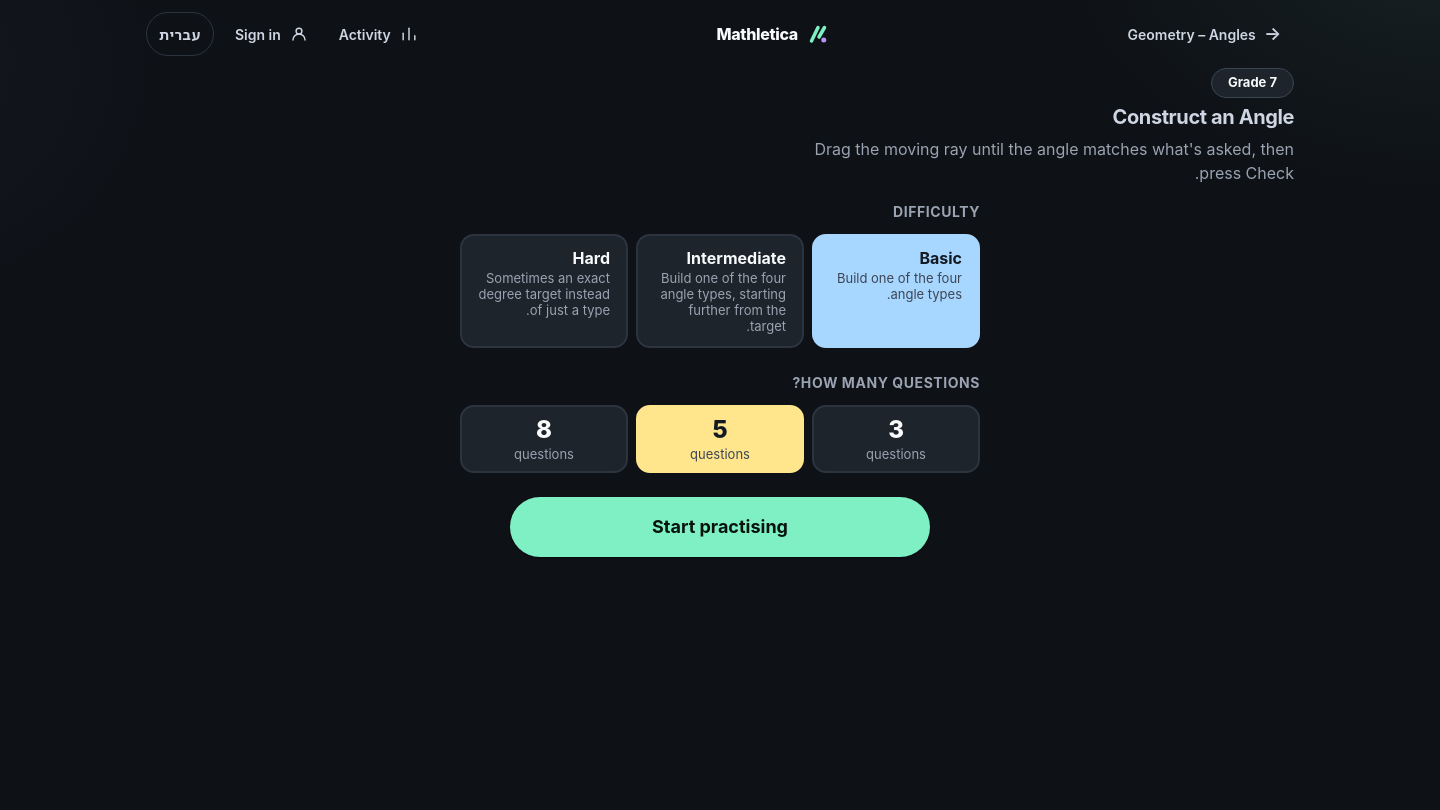
Test case: Construct an Angle training activity (drag lab) › renders a draggable handle, a fixed ray, a moving ray and a live degree readout
Click the button with test id "tr-start".
click(720, 526)  # box [510,496,930,556]
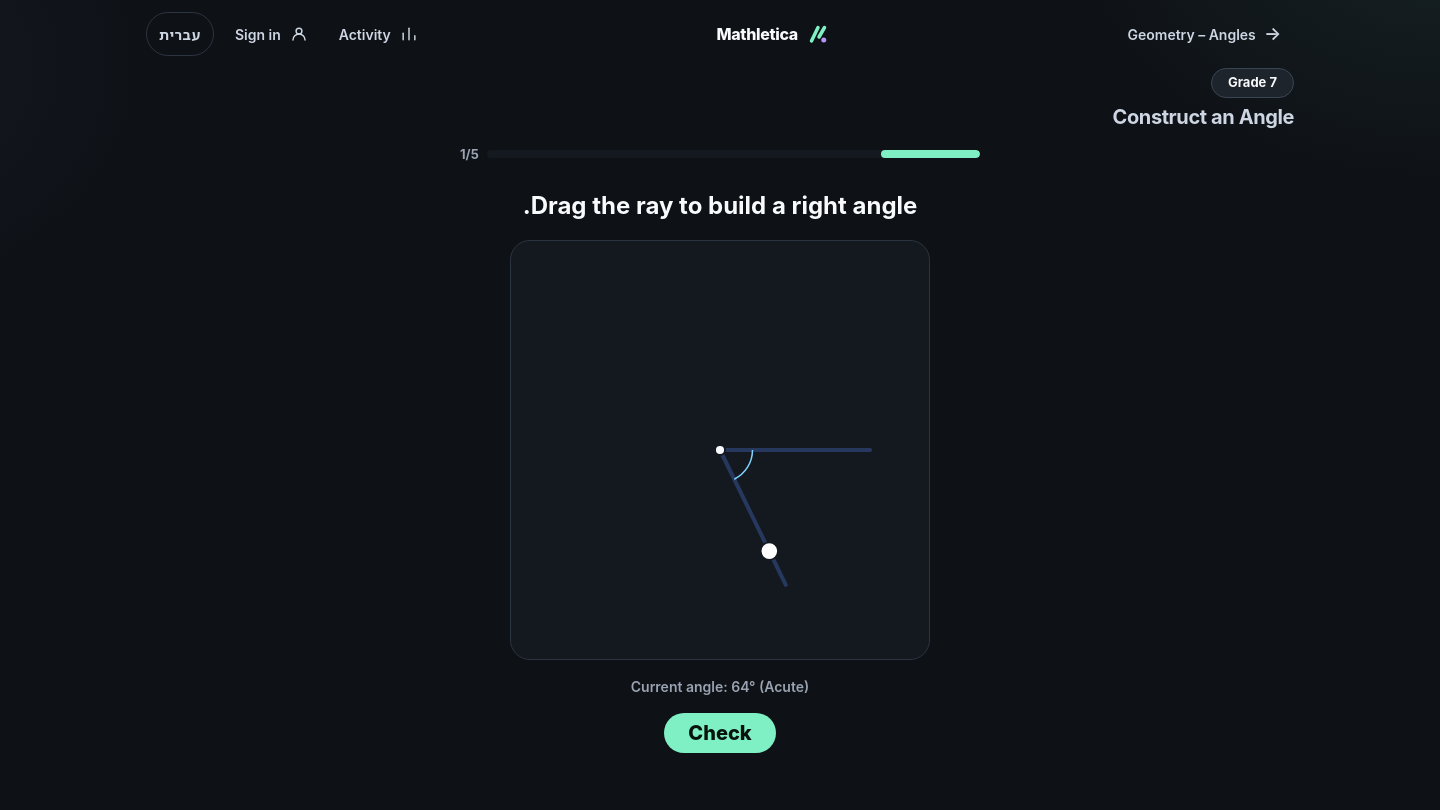
expect the element with test id "geo-construct-draggable-ray" is shown: met, box [720,450,786,585]
expect the text with test id "angles-construct-readout" reads "Current angle: 64° (Acute)": met, box [631,678,809,695]
